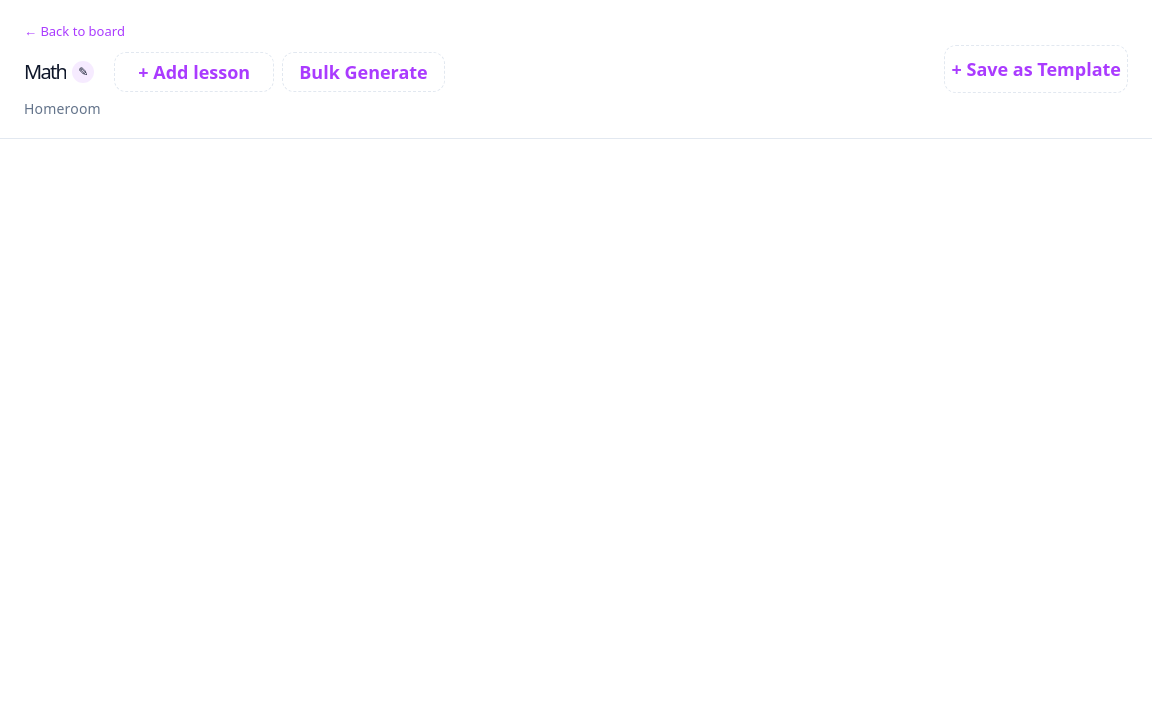
Test: Curriculum › closes the add-lesson modal via its Close button, without creating a lesson
Click the button "+ Add lesson" at (194,72), box x1=114 y1=52 x2=274 y2=92
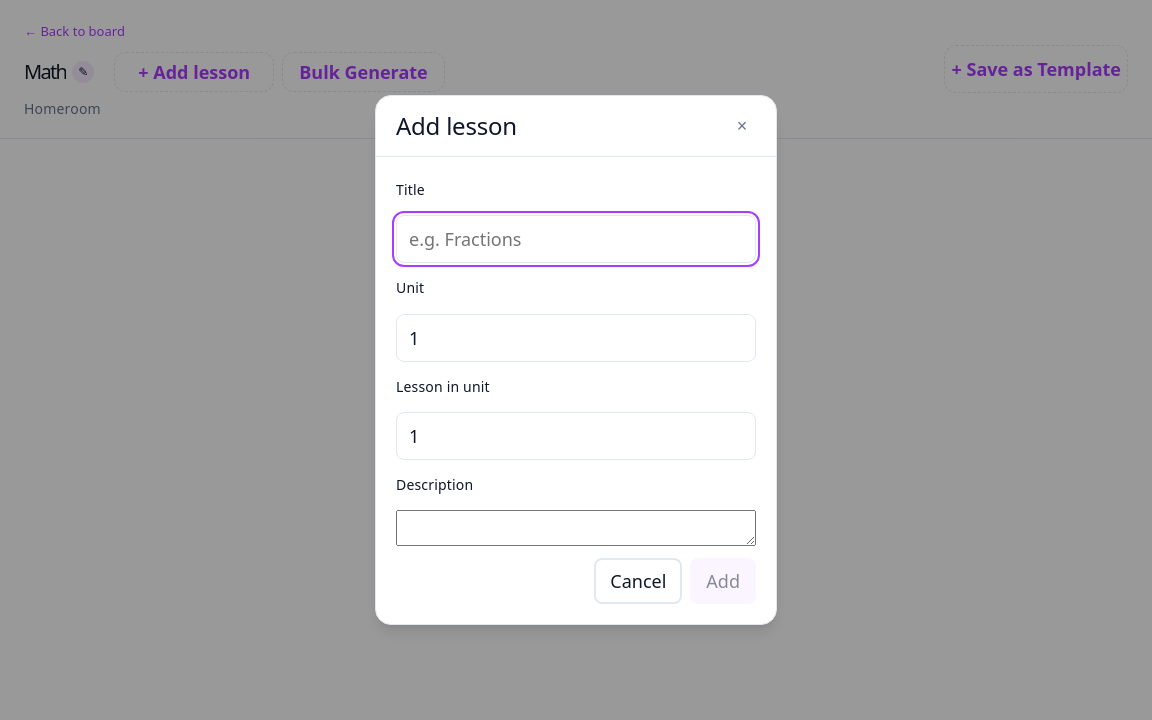
Click the button named "Close" at (742,126), box x1=728 y1=112 x2=756 y2=140
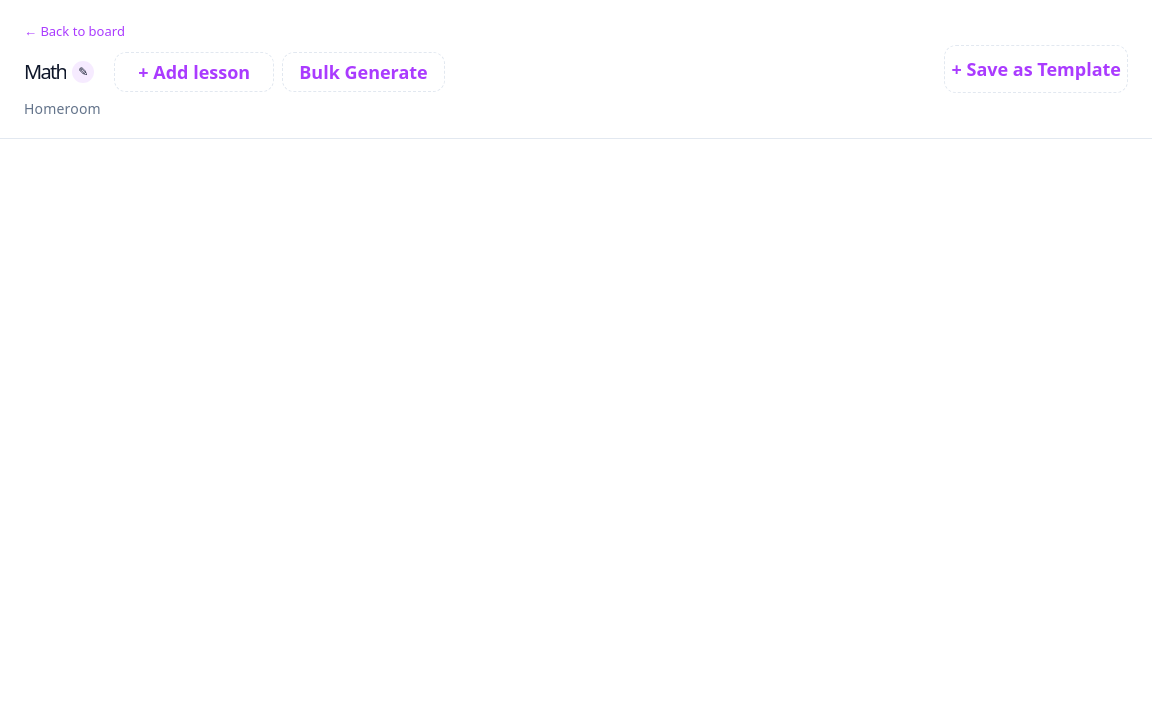
Check: the dialog is gone
